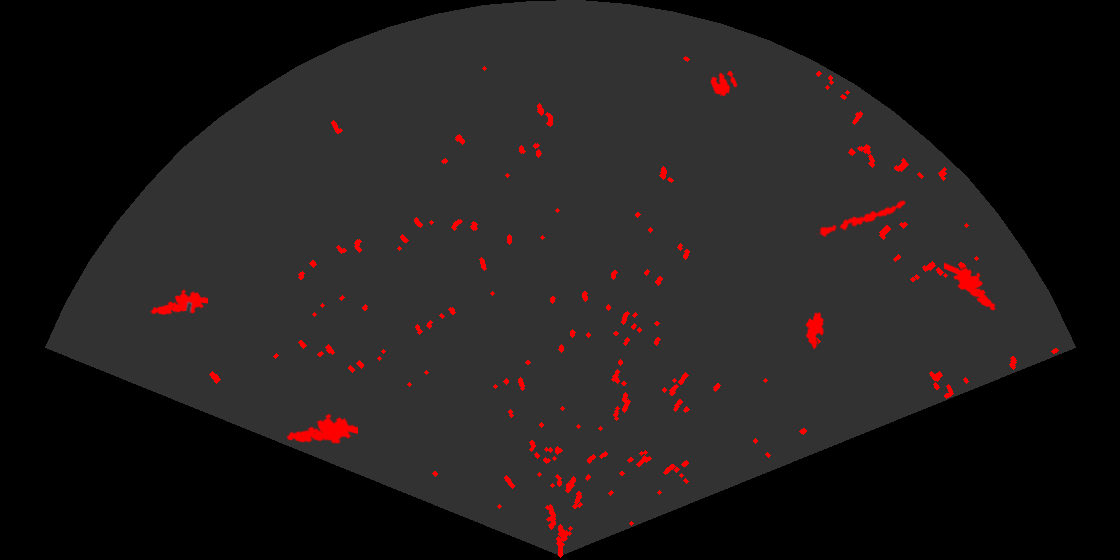AUV: (804, 310, 826, 351)
ball: (709, 69, 739, 98)
chain: (816, 198, 908, 239)
frogman: (944, 261, 998, 312), (285, 412, 358, 445), (149, 288, 208, 316)
